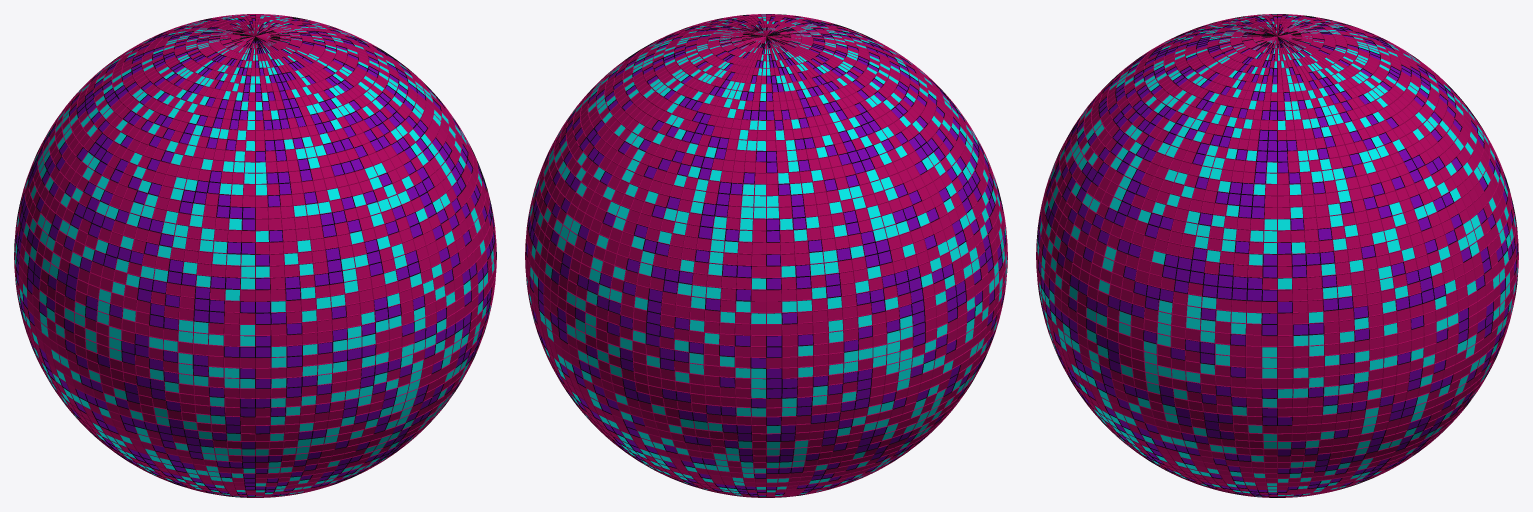
The model's file is zzzzz.fbx.
The picture shows the model from 3 angles, left to right: view 1: azimuth 30°, elevation 25°; view 2: azimuth 150°, elevation 25°; view 3: azimuth 270°, elevation 25°; orthographic projection.
Parts seen in each view (by area): view 1: Sphere; view 2: Sphere; view 3: Sphere.
Boxes of the visible parts, x1,y1,x2,y2 form: Sphere: (14, 14, 496, 497); Sphere: (525, 14, 1007, 497); Sphere: (1036, 14, 1518, 497).
Size of the model in its own units: 200 by 200 by 200.
